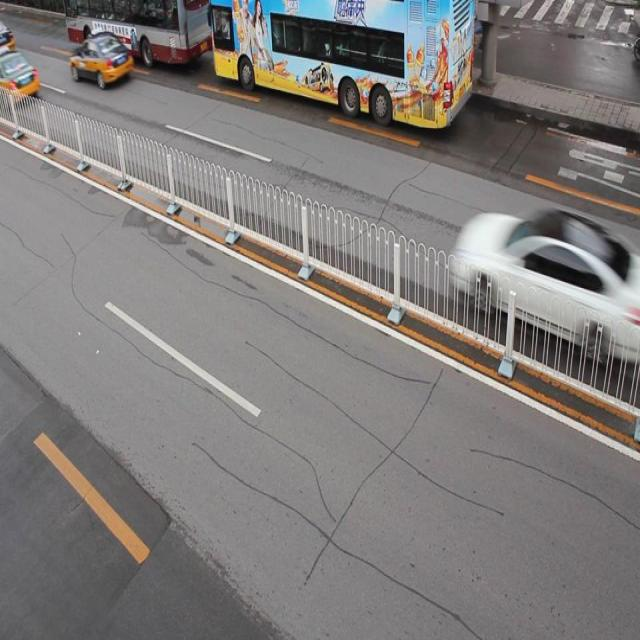car: (448, 207, 640, 364), (68, 30, 134, 87), (1, 49, 40, 106), (1, 21, 17, 63)
van: (209, 1, 474, 127), (63, 1, 210, 64)
